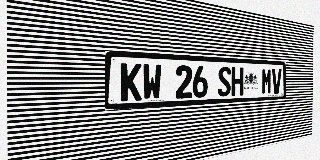2: (176, 65, 192, 99)
6: (193, 66, 208, 98)
H: (231, 67, 244, 96)
K: (121, 63, 142, 101)
M: (261, 68, 272, 94)
S: (218, 67, 231, 97)
V: (272, 69, 281, 94)
W: (142, 64, 162, 100)
